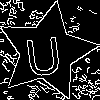U: (22, 27, 64, 78)
